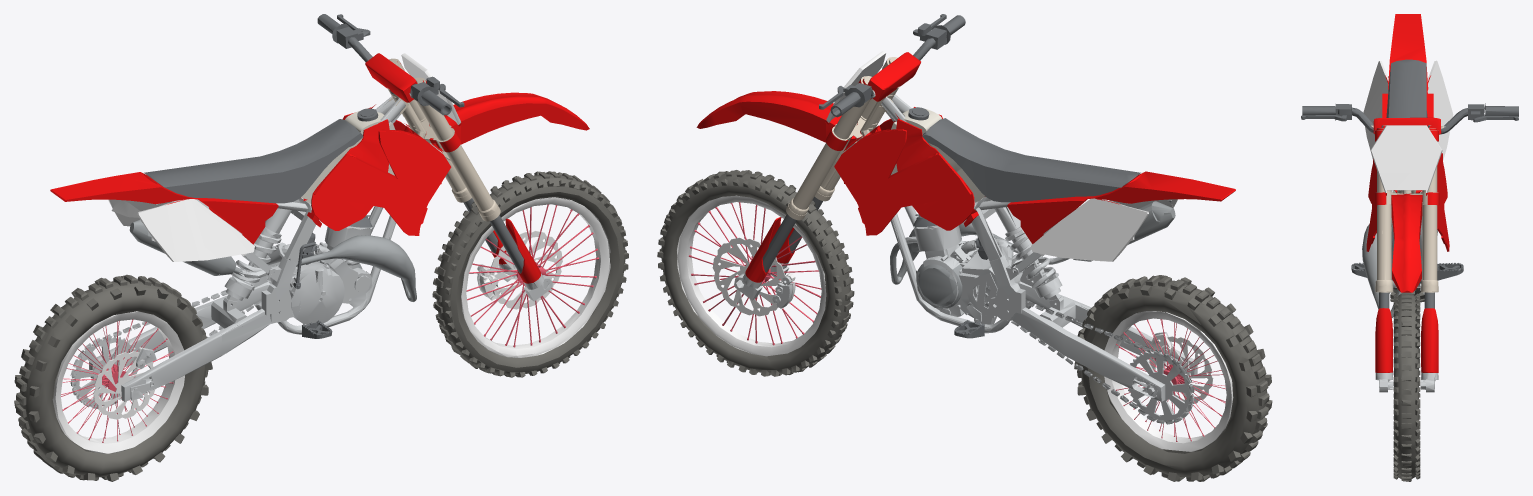
File: dirtbike.glb
The picture shows the model from 3 angles, left to right: view 1: azimuth 30°, elevation 25°; view 2: azimuth 150°, elevation 25°; view 3: azimuth 270°, elevation 25°; orthographic projection. The views are drawn at different scales.
Visible parts, largest first — view 1: wheel_rear, wheel_front, Object_15, Object_3, Object_14, Object_12, Object_16, Object_4, Object_5, Object_10, Object_6; view 2: wheel_rear, Object_15, wheel_front, Object_3, Object_14, Object_12, Object_16, Object_4, Object_7, Object_6, Object_10, Object_5; view 3: Object_15, Object_12, Object_14, wheel_front, Object_5, Object_7, Object_16, Object_3, Object_6, Object_4.
Part boxes in pixels (x1,y1,x2,y2): wheel_rear: [14, 274, 212, 481]; wheel_front: [432, 171, 628, 377]; Object_15: [50, 53, 589, 283]; Object_3: [70, 62, 552, 408]; Object_14: [144, 14, 523, 338]; Object_12: [108, 53, 460, 261]; Object_16: [129, 219, 416, 301]; Object_4: [72, 244, 515, 407]; Object_5: [399, 62, 497, 212]; Object_10: [301, 110, 395, 203]; Object_6: [388, 77, 500, 221]; wheel_rear: [1074, 275, 1272, 481]; Object_15: [696, 52, 1235, 282]; wheel_front: [657, 170, 854, 376]; Object_3: [770, 91, 1197, 424]; Object_14: [762, 14, 1140, 338]; Object_12: [826, 51, 1177, 261]; Object_16: [890, 200, 1175, 308]; Object_4: [734, 143, 1192, 422]; Object_7: [786, 76, 876, 220]; Object_6: [814, 57, 898, 201]; Object_10: [891, 108, 985, 202]; Object_5: [821, 60, 887, 190]; Object_15: [1366, 14, 1449, 372]; Object_12: [1363, 60, 1453, 192]; Object_14: [1301, 59, 1518, 308]; wheel_front: [1393, 292, 1420, 481]; Object_5: [1375, 130, 1438, 285]; Object_7: [1421, 125, 1443, 292]; Object_16: [1362, 76, 1421, 317]; Object_3: [1375, 126, 1445, 392]; Object_6: [1371, 125, 1437, 292]; Object_4: [1389, 223, 1438, 392].
Bounding box in the file's own units: 157 × 88.06 × 56.
